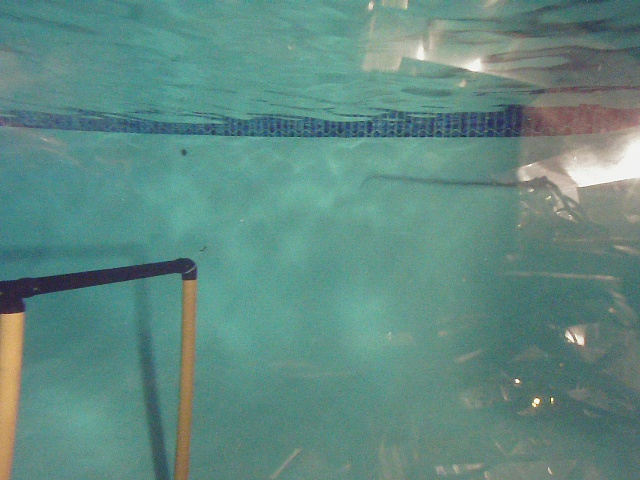Gate: (170, 277, 200, 480), (1, 310, 24, 480)
